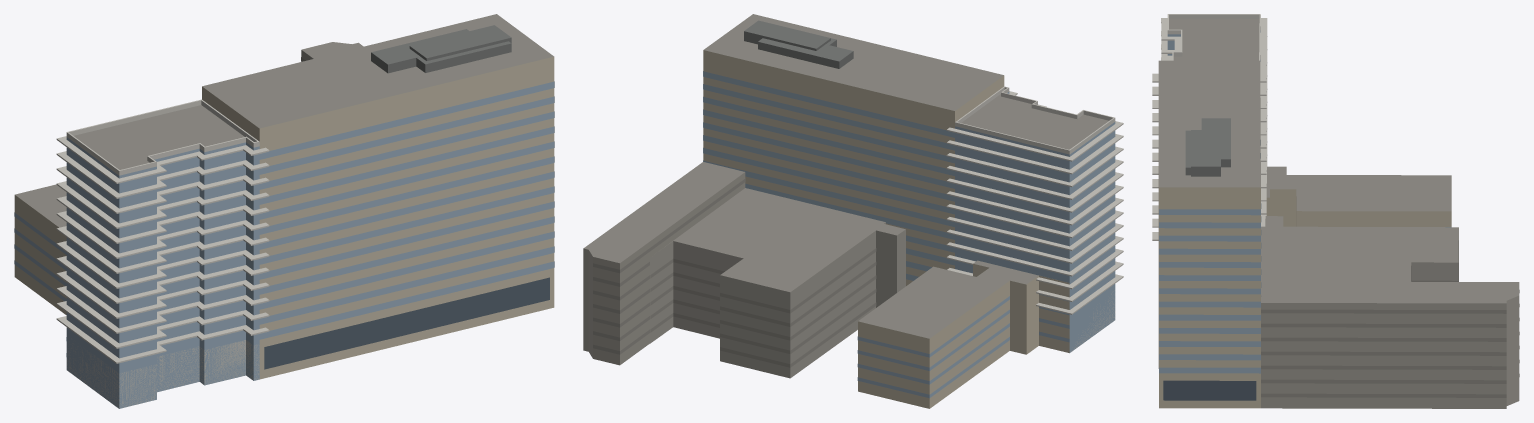
The model's file is camelot-hotel.glb.
3 views of the same model, side by side, from view 1: azimuth 30°, elevation 25°; view 2: azimuth 150°, elevation 25°; view 3: azimuth 270°, elevation 25° (orthographic). The views are drawn at different scales.
Parts seen in each view (by area): view 1: camelot_hotel; view 2: camelot_hotel; view 3: camelot_hotel.
Part boxes in pixels (bbox=[...]): camelot_hotel: bbox=[14, 14, 554, 408]; camelot_hotel: bbox=[583, 14, 1123, 408]; camelot_hotel: bbox=[1152, 14, 1519, 408].
Size of the model in its own units: 97.97 by 56.08 by 80.71.
